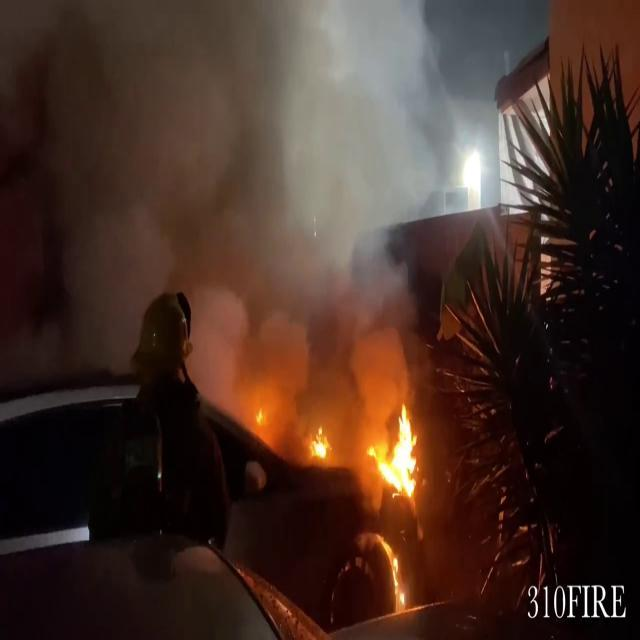Fire: (371, 401, 425, 498), (306, 425, 334, 467)
Smoke: (1, 0, 443, 422)
